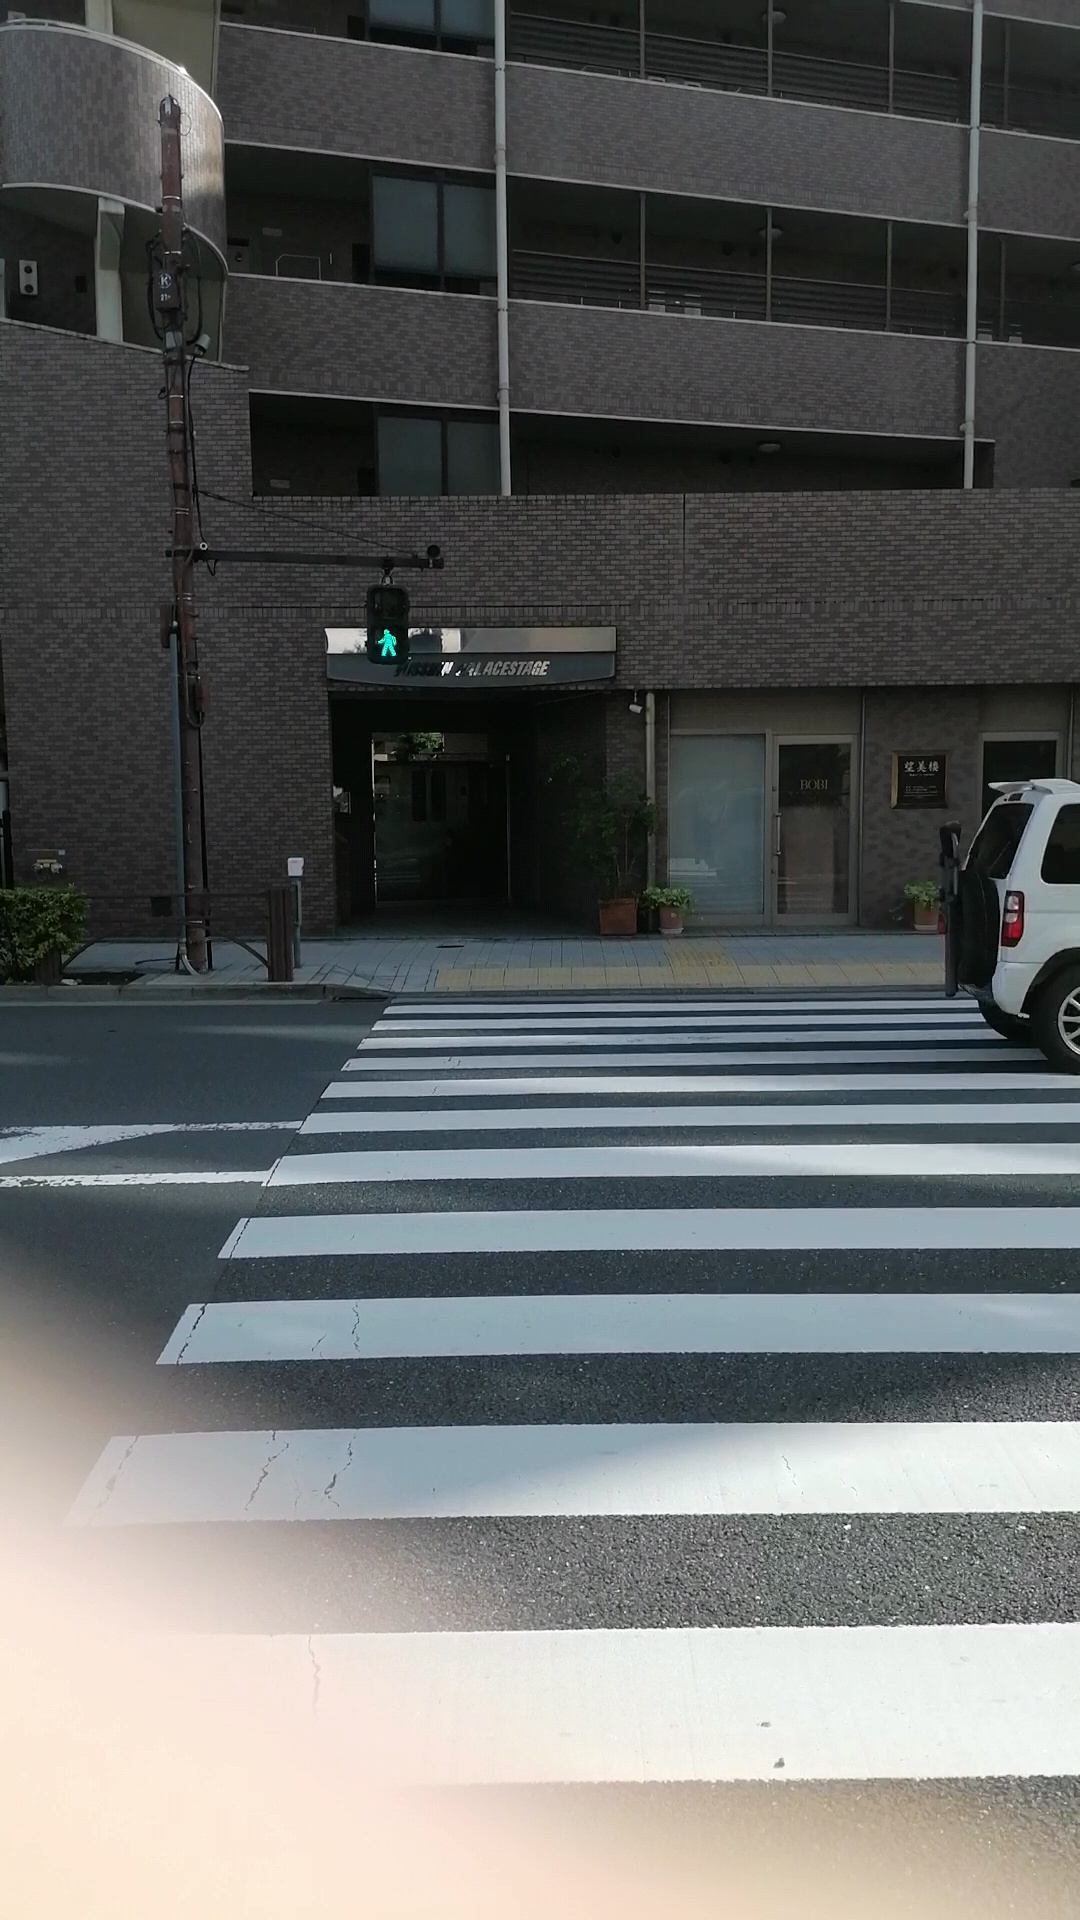green: (365, 583, 410, 665)
